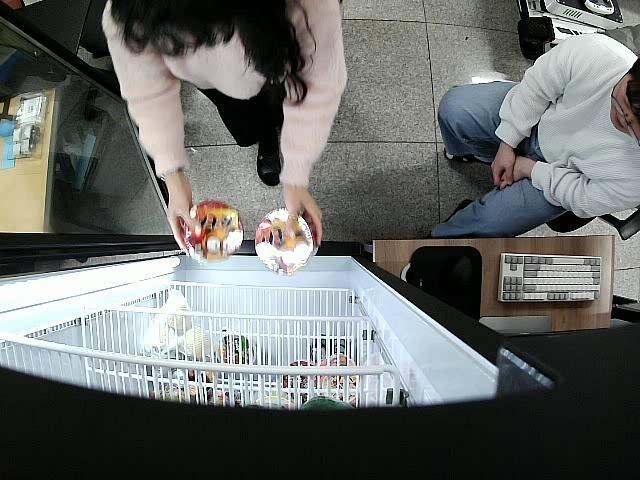05_nuguri_L: (256, 211, 318, 272), (183, 200, 243, 260)
